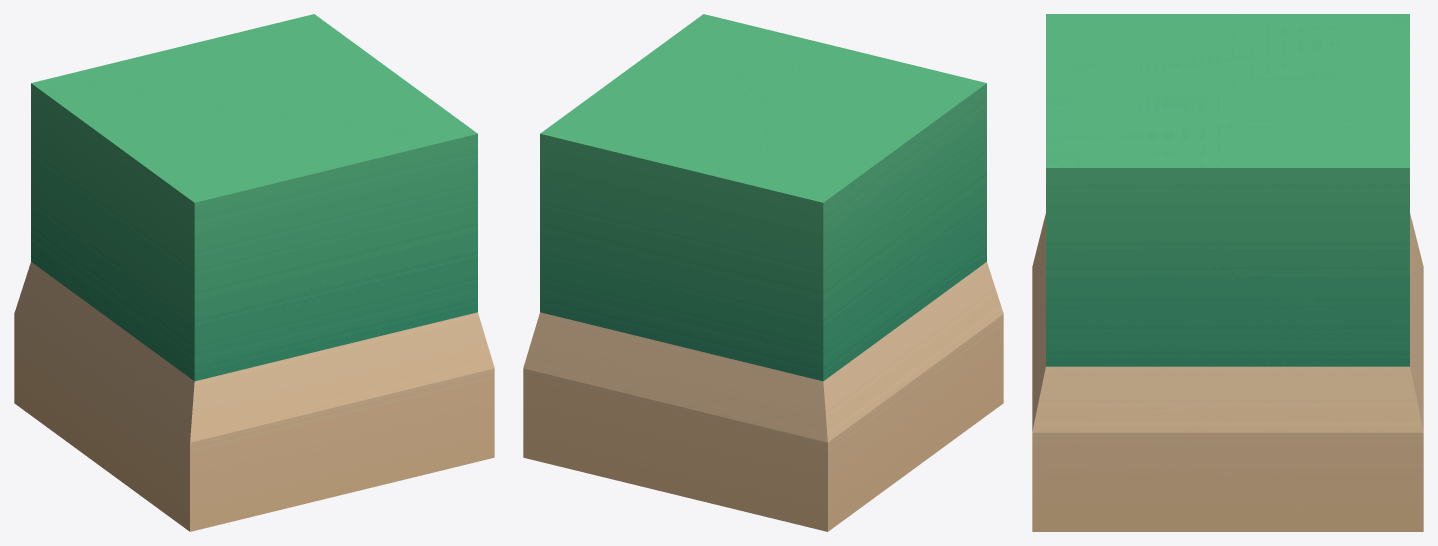
The model's file is tower-square-base.glb.
3 renders of one model, left to right at view 1: azimuth 30°, elevation 25°; view 2: azimuth 150°, elevation 25°; view 3: azimuth 270°, elevation 25°, orthographic. The views are drawn at different scales.
Parts seen in each view (by area): view 1: tower-square-base; view 2: tower-square-base; view 3: tower-square-base.
Boxes of the visible parts, <box> form: tower-square-base: <box>14,14,494,531</box>; tower-square-base: <box>523,14,1003,531</box>; tower-square-base: <box>1032,14,1423,531</box>.
Size of the model in its own units: 1 by 1.01 by 1.
